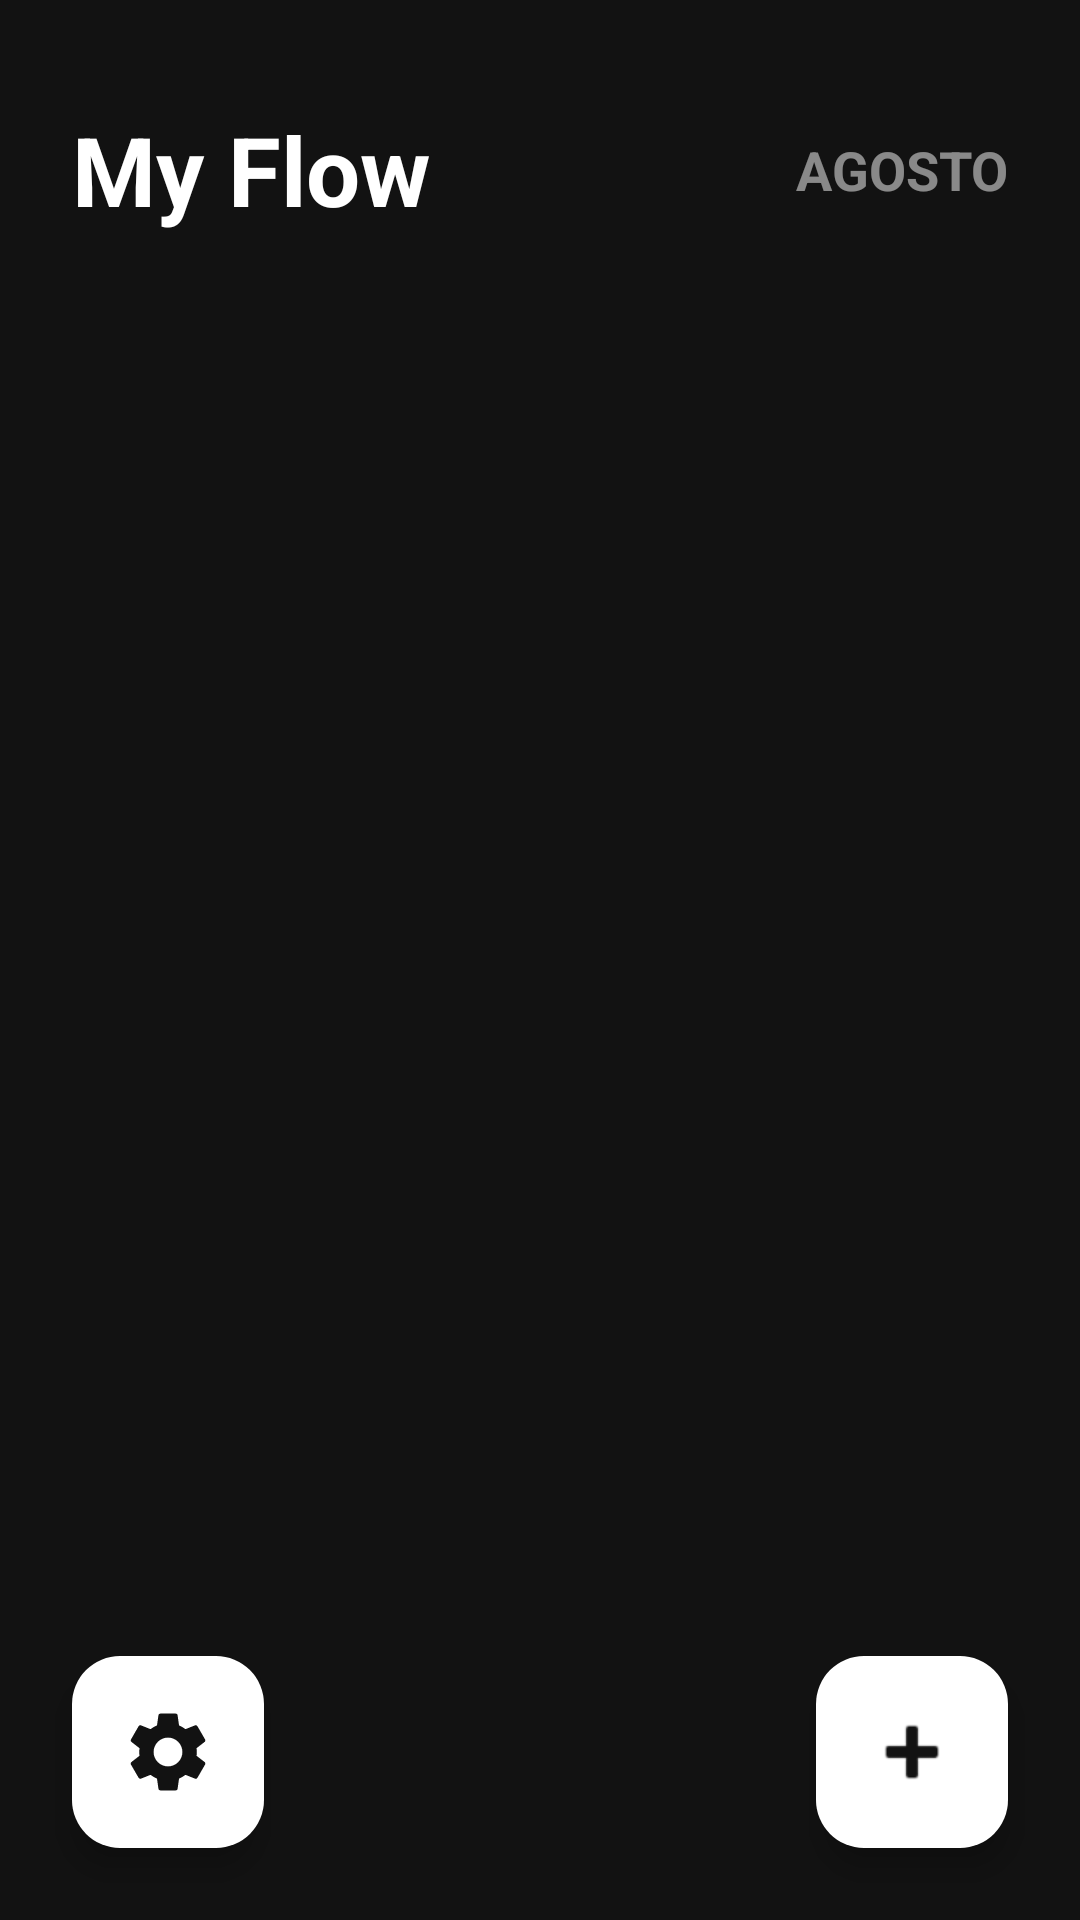

Named icons in this screenshot (1080*1920) and their bounding boxes, {"x1": x1, "y1": y1, "x2": x2, "y2": y2}:
add: {"x1": 816, "y1": 1656, "x2": 1008, "y2": 1848}
settings gear: {"x1": 72, "y1": 1656, "x2": 264, "y2": 1848}
